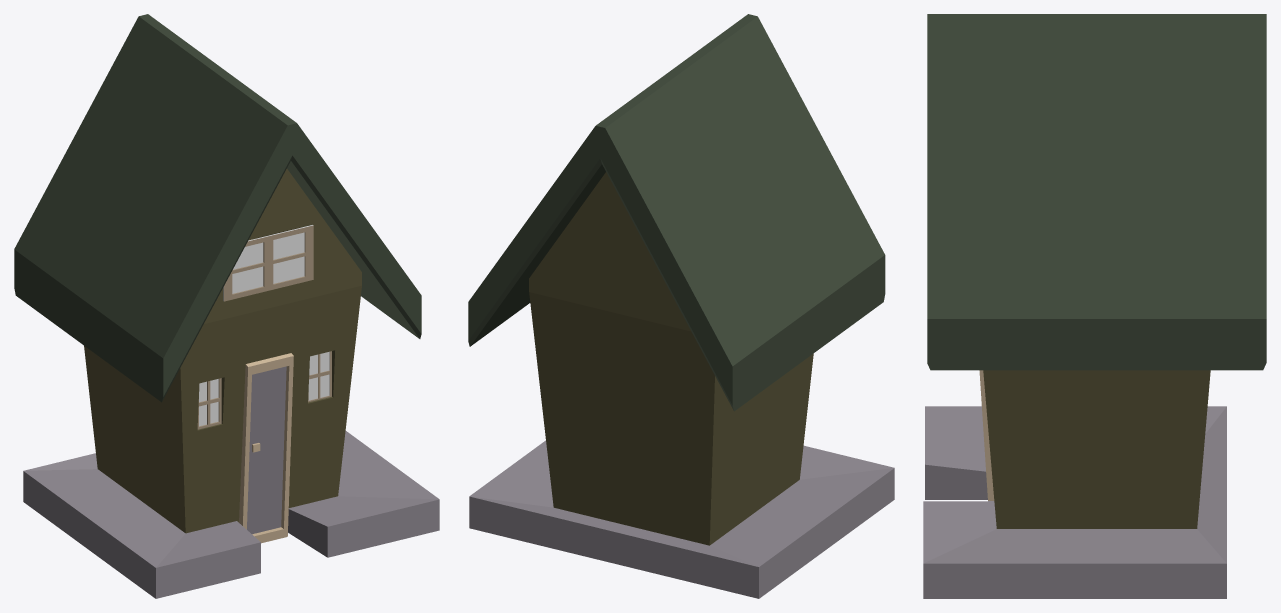
Rendered from HOUSE TALL (YELLOW).fbx.
3 views of the same model, side by side, from view 1: azimuth 30°, elevation 25°; view 2: azimuth 150°, elevation 25°; view 3: azimuth 270°, elevation 25° (orthographic). The views are drawn at different scales.
Visible parts, largest first — view 1: Roof, House, Door, Front Windows.001, Front Windows; view 2: House, Roof; view 3: Roof, House, Door.
Boxes of the visible parts, <box> form: Roof: <box>14,14,421,402</box>; House: <box>23,169,439,598</box>; Door: <box>239,353,293,543</box>; Front Windows.001: <box>223,225,313,301</box>; Front Windows: <box>197,351,331,429</box>; House: <box>469,172,894,598</box>; Roof: <box>468,14,885,411</box>; Roof: <box>927,14,1266,370</box>; House: <box>923,370,1226,598</box>; Door: <box>979,370,994,500</box>.
Size of the model in its own units: 1239 by 1841 by 1143.
